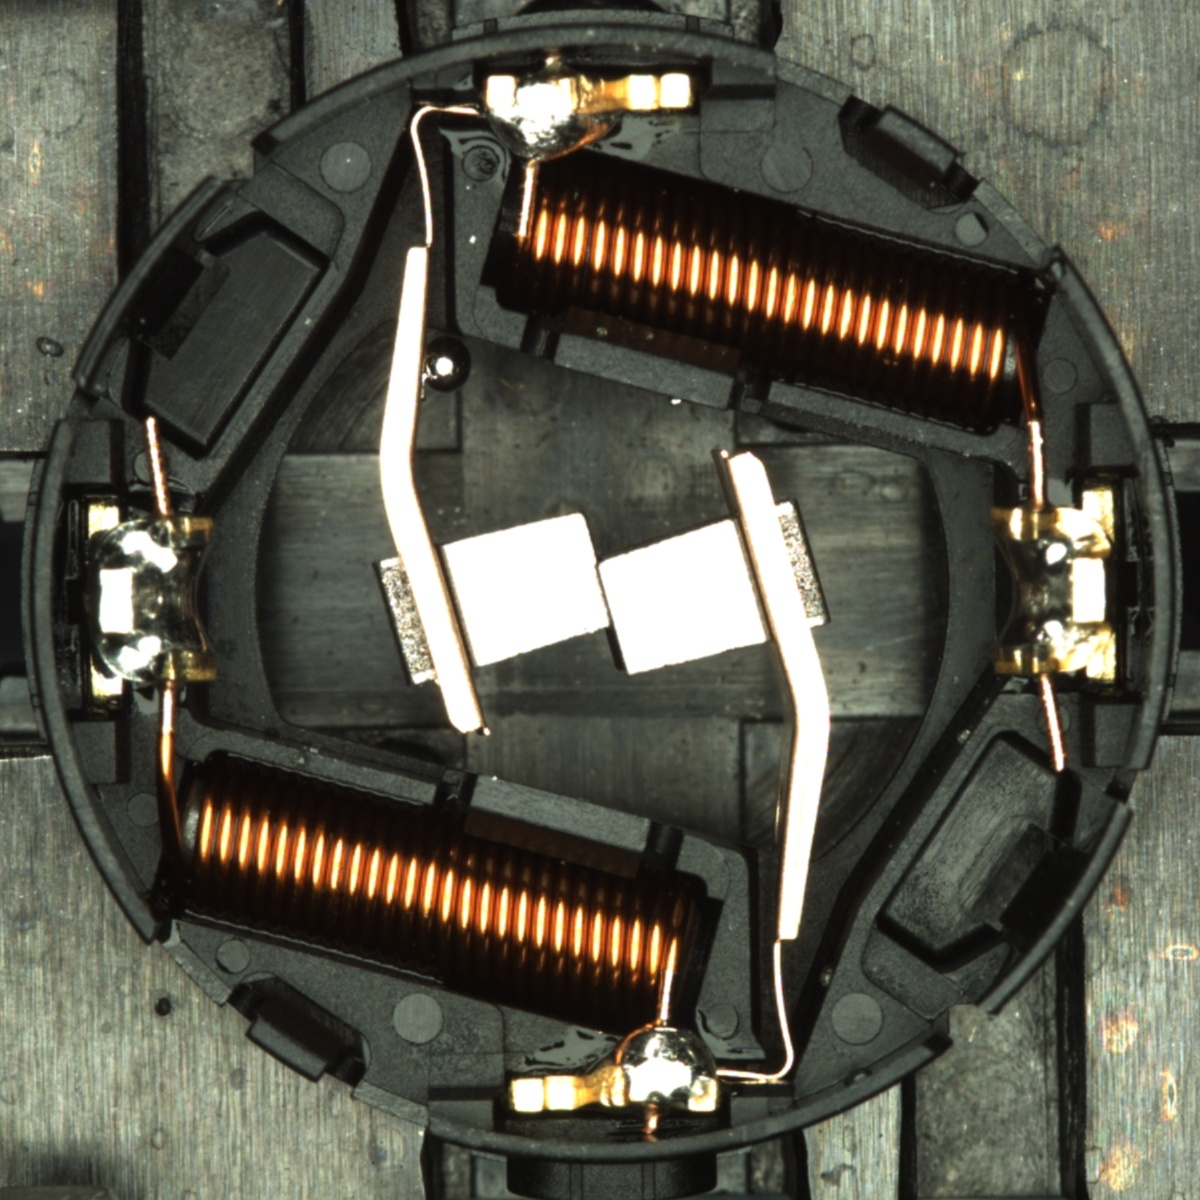1: (255, 31, 484, 256), (713, 929, 942, 1154)
2: (713, 31, 942, 256), (255, 929, 484, 1154)
3: (25, 256, 255, 480), (942, 705, 1173, 929)
4: (713, 705, 942, 929)
5: (484, 144, 713, 368), (484, 816, 713, 1041)
6: (713, 256, 942, 480), (255, 705, 484, 929)
7: (942, 256, 1173, 480), (25, 705, 255, 929)
cacbon: (396, 499, 801, 686)
chau_dien: (82, 497, 222, 700), (984, 487, 1123, 687)
hat_chi: (420, 336, 473, 393)
tay_choi: (482, 69, 698, 169), (508, 1018, 722, 1116)
thanh_de: (953, 786, 1141, 1031), (59, 164, 245, 405)
vun_chi: (420, 336, 471, 392)
